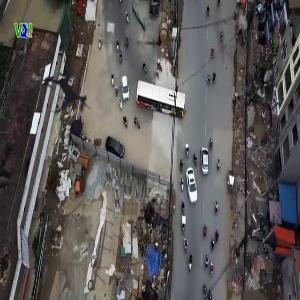drone: (15, 42, 115, 142)
